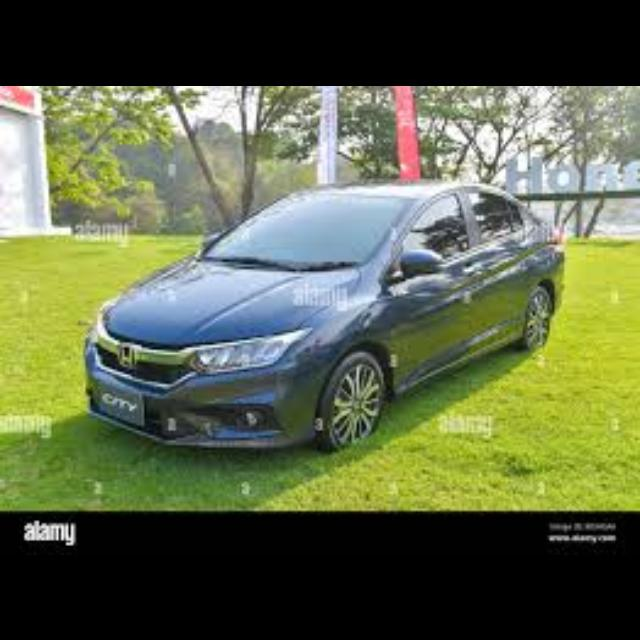vehicles: (76, 173, 560, 451)
